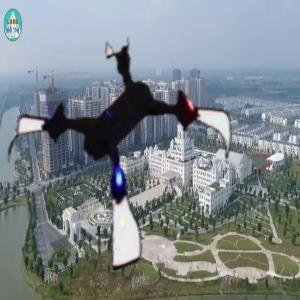drone: (5, 34, 243, 272)
